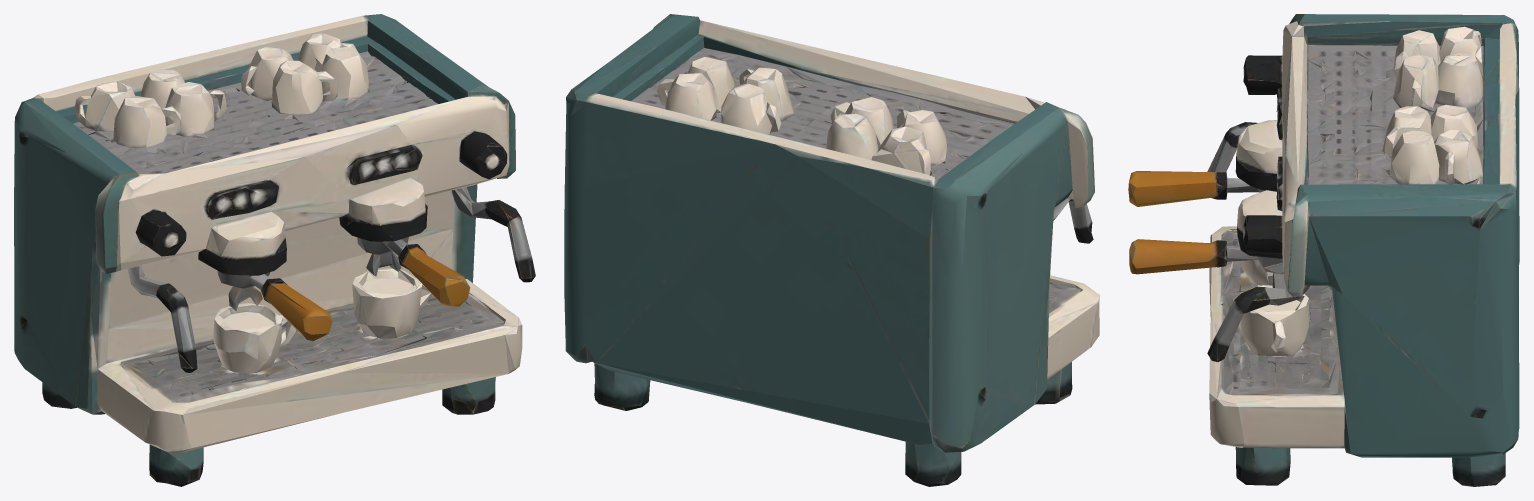
The model's file is espresso.glb.
3 renders of one model, left to right at view 1: azimuth 30°, elevation 25°; view 2: azimuth 150°, elevation 25°; view 3: azimuth 270°, elevation 25°, orthographic. The views are drawn at different scales.
Visible parts, largest first — view 1: Mesh_0; view 2: Mesh_0; view 3: Mesh_0.
Part boxes in pixels (left/top/right/bottom): Mesh_0: left=14, top=14, right=535, bottom=486; Mesh_0: left=564, top=14, right=1099, bottom=486; Mesh_0: left=1128, top=14, right=1519, bottom=486.
Bounding box in the file's own units: 0.6828 × 0.4907 × 0.55.
1 material, 1 textured.
